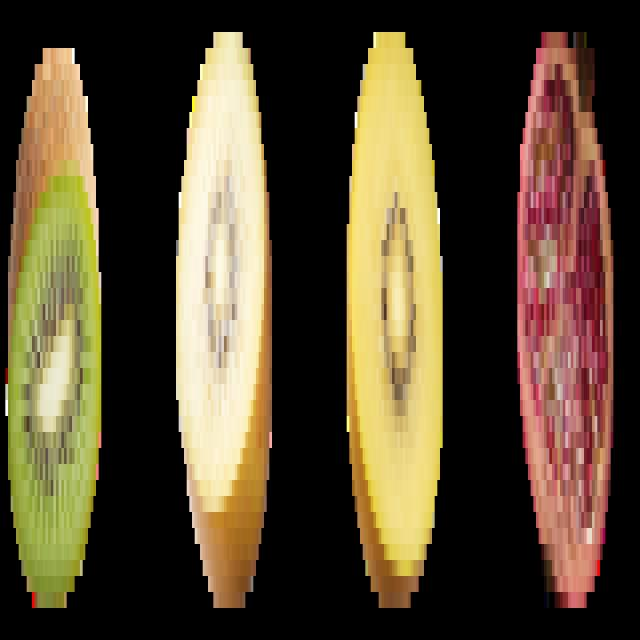kiwifruit: (346, 26, 445, 620), (175, 36, 273, 618), (6, 42, 102, 617)
pomegranate: (514, 19, 617, 625)
